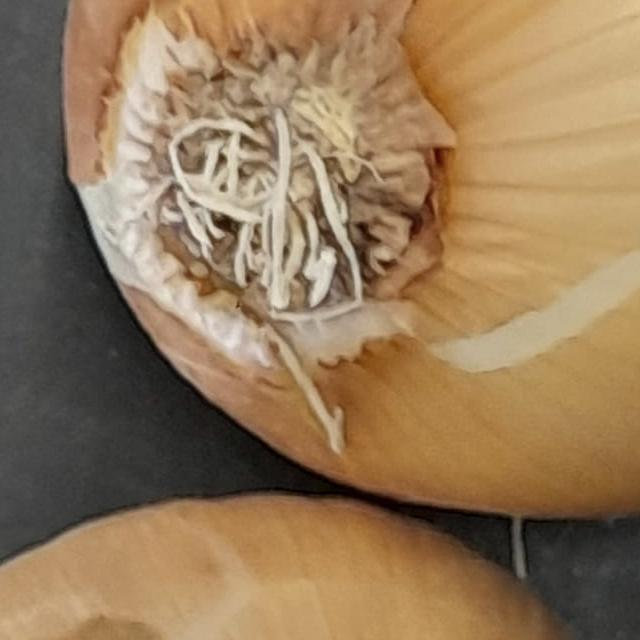onion: (40, 0, 640, 533), (0, 450, 640, 640)
